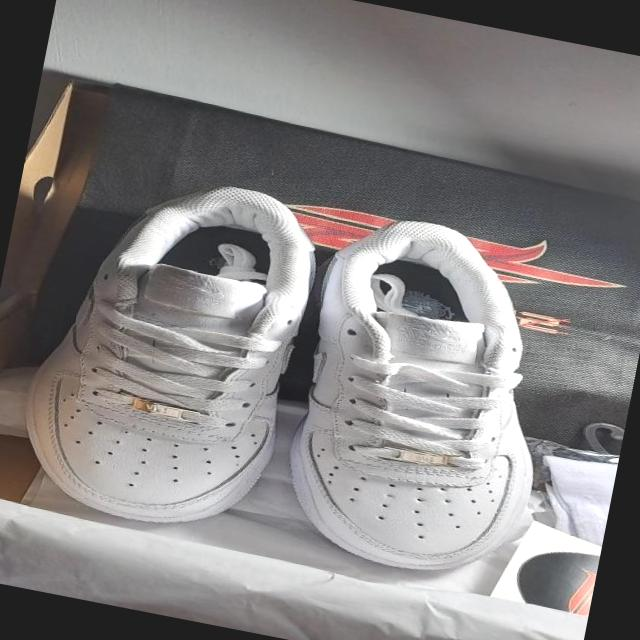nike_fake_airforce: (262, 203, 609, 600), (12, 152, 334, 547)
